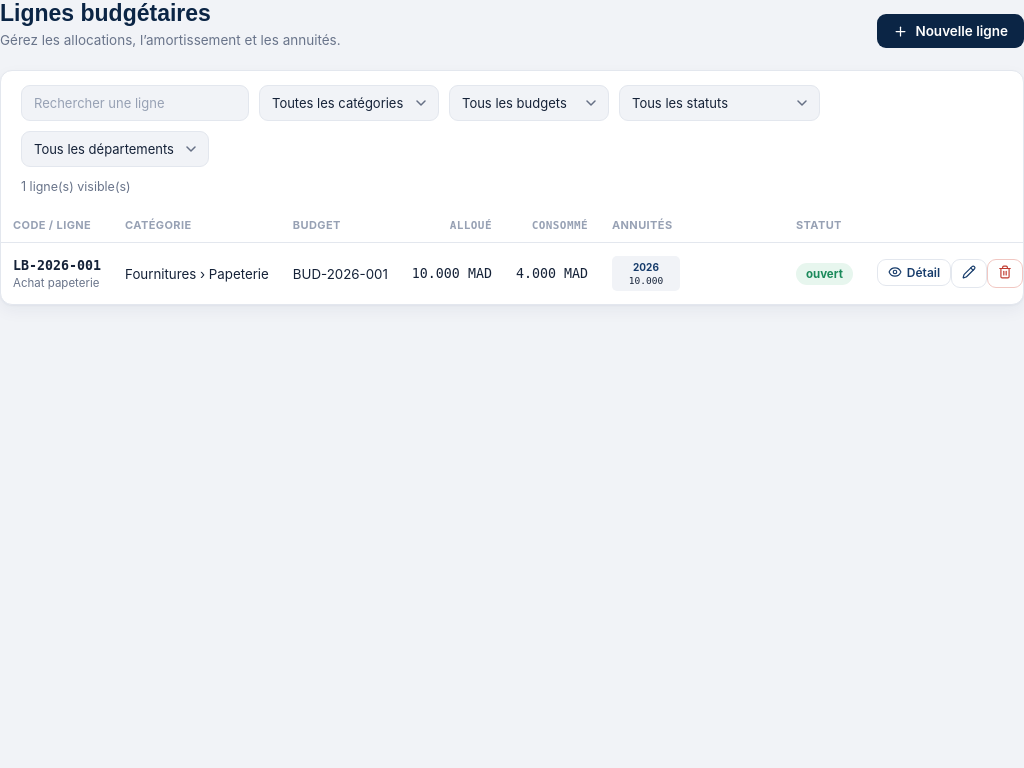
Test case: LignesBudgetaires › ouvre la modale de création avec un code généré automatiquement
Expected: the text "LB-2026-001" is shown, top-left (13, 258), bottom-right (101, 273)
Click the button "Nouvelle ligne".
click(951, 31)  # box top-left (877, 14), bottom-right (1023, 48)
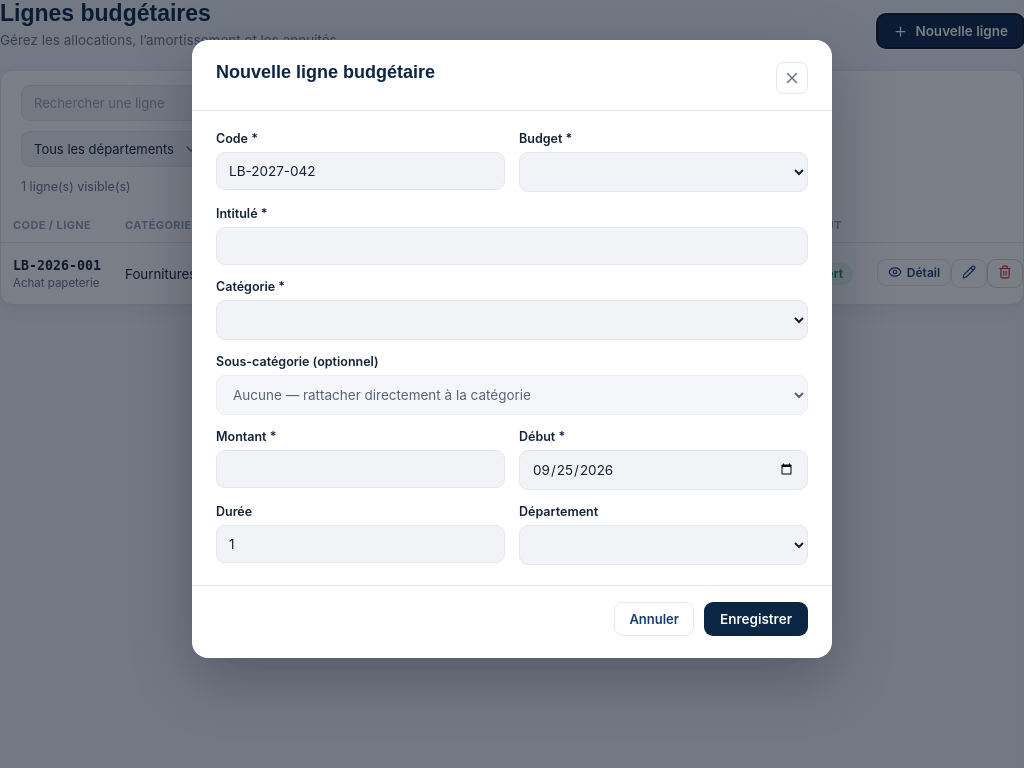
Now the field below "Code *" holds "LB-2027-042", box top-left (216, 152), bottom-right (505, 190)
